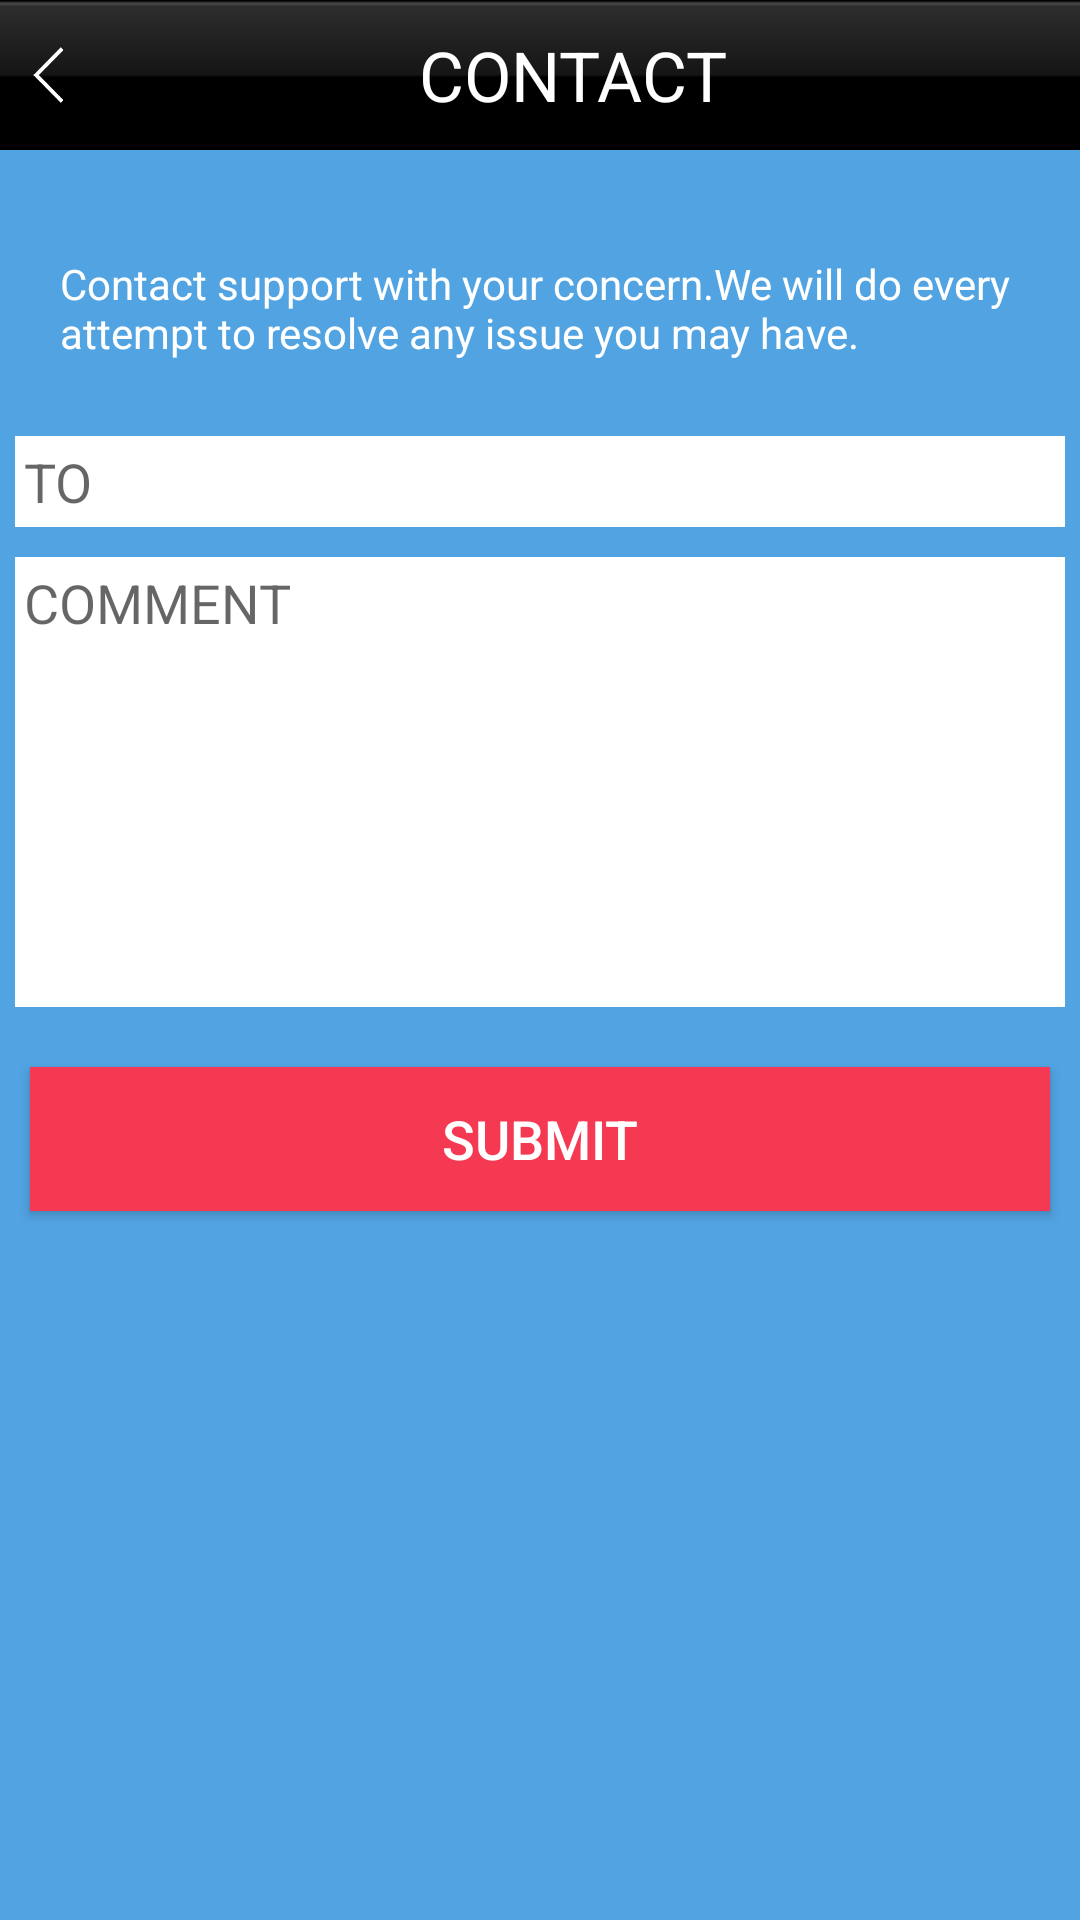

Point at icon controls on the screen. Image size 1080px x 1920px, points as [x,y].
back: [48,75]
